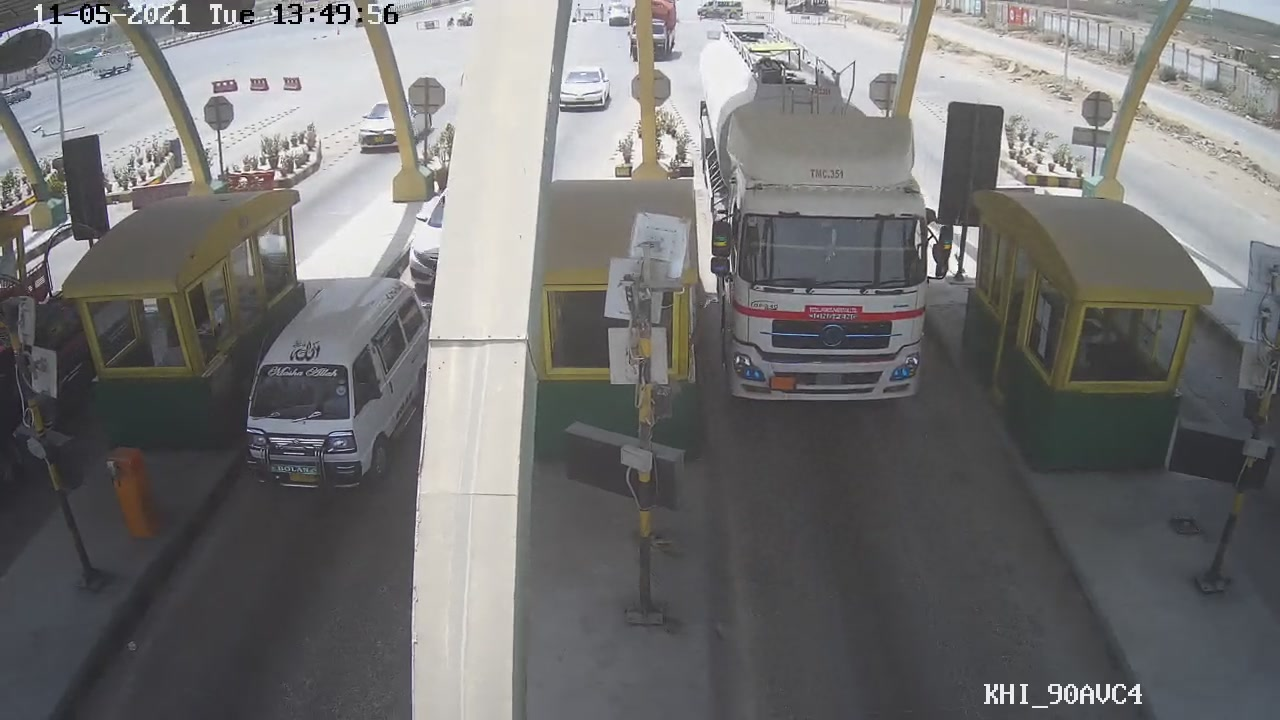F6: (692, 24, 950, 406)
